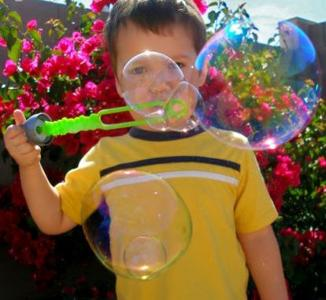person: (3, 3, 291, 300)
